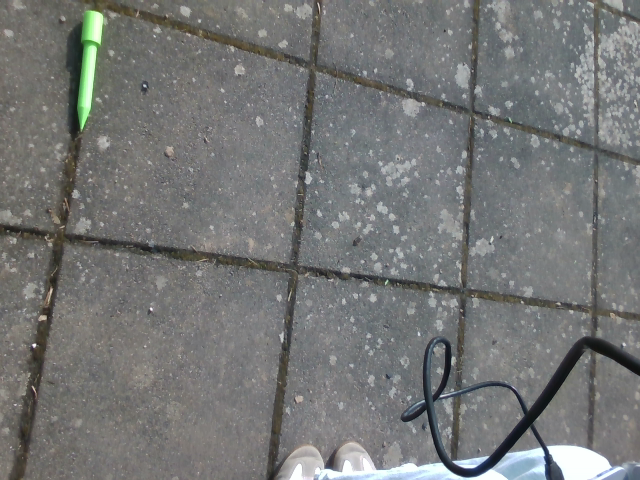Probe: (72, 5, 106, 138)
